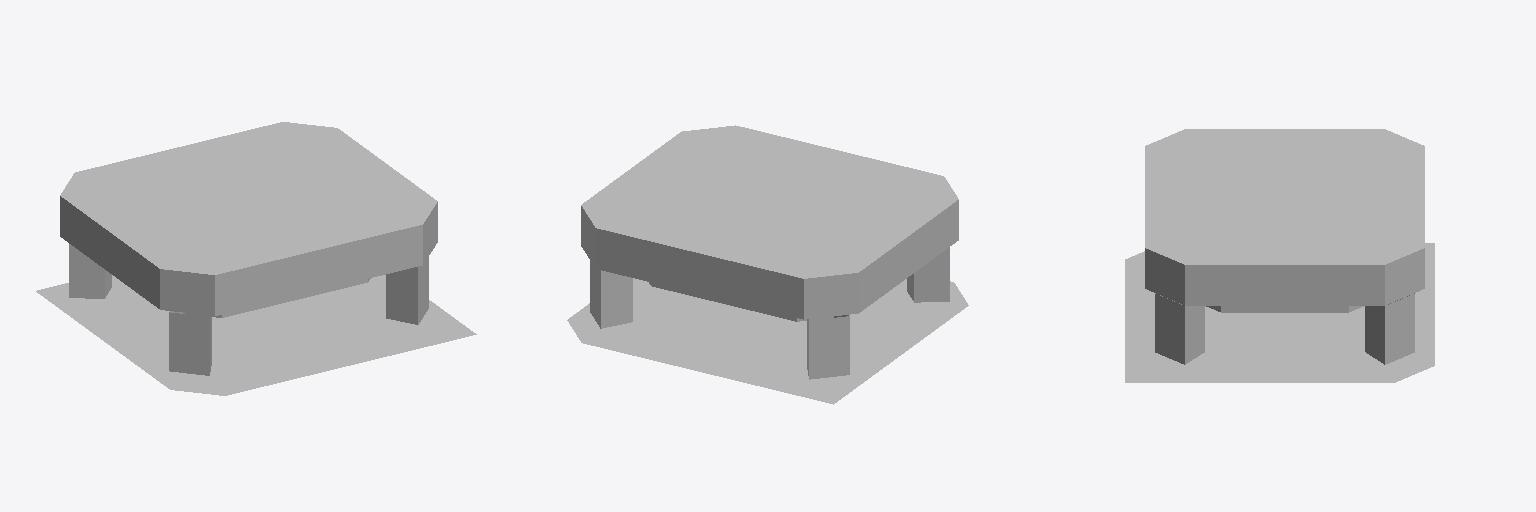
Rendered from Table 15.obj.
3 renders of one model, left to right at view 1: azimuth 30°, elevation 25°; view 2: azimuth 150°, elevation 25°; view 3: azimuth 270°, elevation 25°, orthographic.
Parts seen in each view (by area): view 1: polygon2, polygon1, polygon0; view 2: polygon2, polygon1, polygon0; view 3: polygon2, polygon1, polygon0.
Part boxes in pixels (x1,y1,x2,y2): polygon2: (60, 122, 437, 375); polygon1: (36, 275, 476, 395); polygon0: (120, 147, 377, 249); polygon2: (581, 125, 958, 379); polygon1: (567, 278, 968, 404); polygon0: (641, 151, 898, 253); polygon2: (1145, 129, 1424, 364); polygon1: (1125, 243, 1434, 382); polygon0: (1193, 150, 1376, 243).
Size of the model in its own units: 33.05 by 12.5 by 31.